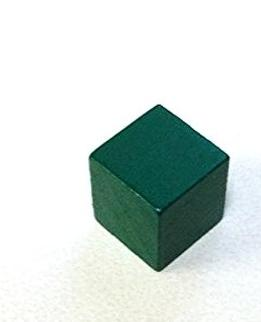green cube: (89, 105, 229, 273)
